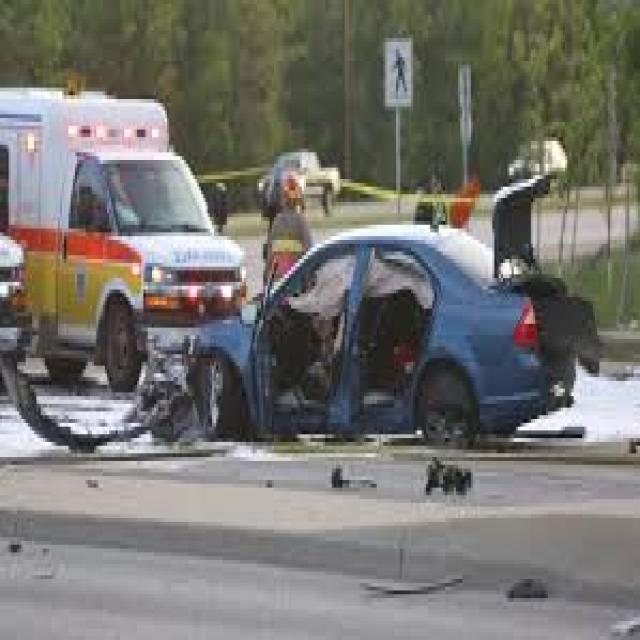accident: (187, 207, 584, 484)
